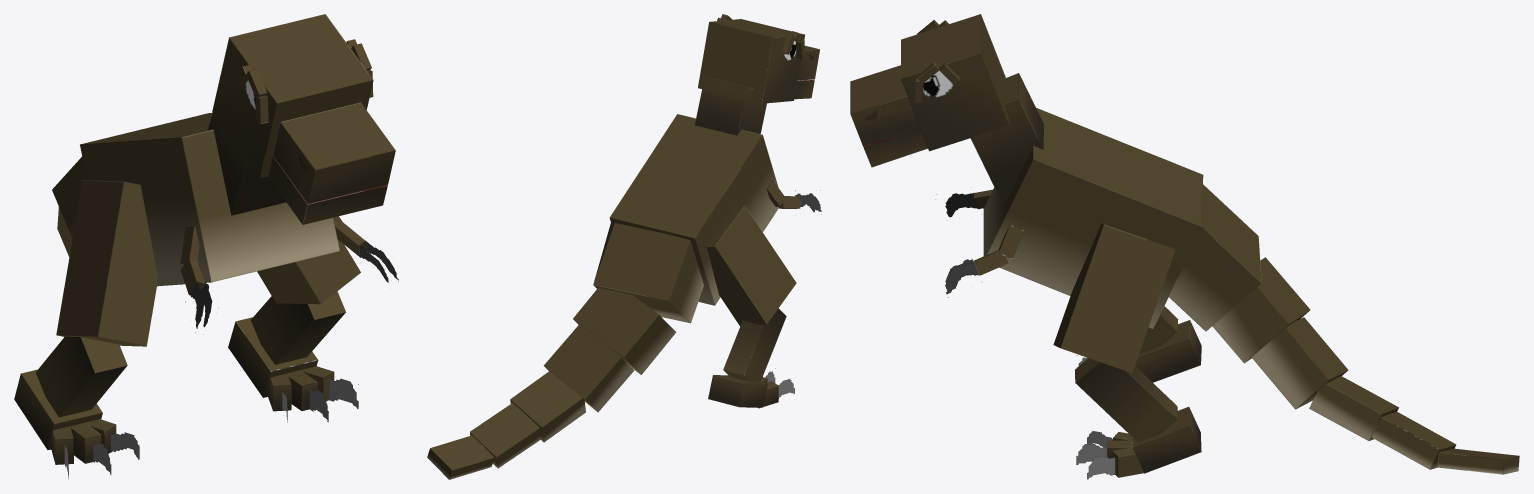
The model's file is animateddinosaur47.obj.
3 views of the same model, side by side, from view 1: azimuth 30°, elevation 25°; view 2: azimuth 150°, elevation 25°; view 3: azimuth 270°, elevation 25° (orthographic). The views are drawn at different scales.
Visible parts, largest first — view 1: Object_6, Object_64, Object_9, Object_56, Object_12, Object_34, Object_31, Object_53, Object_79, Object_37, Object_15, Object_92 (+12 smaller); view 2: Object_6, Object_92, Object_9, Object_64, Object_95, Object_98, Object_53, Object_101, Object_12, Object_104, Object_107, Object_15 (+1 smaller); view 3: Object_6, Object_31, Object_64, Object_92, Object_34, Object_98, Object_95, Object_53, Object_56, Object_101, Object_104, Object_37 (+5 smaller).
Boxes of the visible parts, x1,y1,x2,y2 form: Object_6: [80, 113, 339, 286]; Object_64: [212, 14, 373, 178]; Object_9: [56, 180, 157, 346]; Object_56: [273, 102, 395, 203]; Object_12: [36, 336, 127, 417]; Object_34: [251, 291, 345, 364]; Object_31: [257, 239, 360, 304]; Object_53: [207, 113, 285, 215]; Object_79: [268, 156, 387, 224]; Object_37: [228, 317, 318, 397]; Object_15: [14, 369, 102, 449]; Object_92: [52, 156, 86, 238]; Object_6: [609, 114, 778, 305]; Object_92: [593, 223, 703, 323]; Object_9: [707, 205, 796, 326]; Object_64: [698, 19, 804, 103]; Object_95: [573, 288, 676, 374]; Object_98: [543, 324, 634, 412]; Object_53: [695, 77, 766, 135]; Object_101: [510, 371, 585, 442]; Object_12: [723, 308, 786, 382]; Object_104: [470, 403, 540, 468]; Object_107: [427, 435, 494, 479]; Object_15: [708, 375, 767, 407]; Object_6: [983, 108, 1203, 328]; Object_31: [1053, 223, 1175, 373]; Object_64: [901, 14, 1009, 151]; Object_92: [1169, 184, 1261, 331]; Object_34: [1075, 358, 1177, 442]; Object_98: [1252, 317, 1348, 409]; Object_95: [1212, 257, 1310, 363]; Object_53: [970, 73, 1043, 206]; Object_56: [850, 65, 919, 146]; Object_101: [1309, 376, 1398, 440]; Object_104: [1371, 412, 1456, 469]; Object_37: [1132, 406, 1201, 473].
Bounding box in the file's own units: 2.36 × 3.54 × 5.42.
